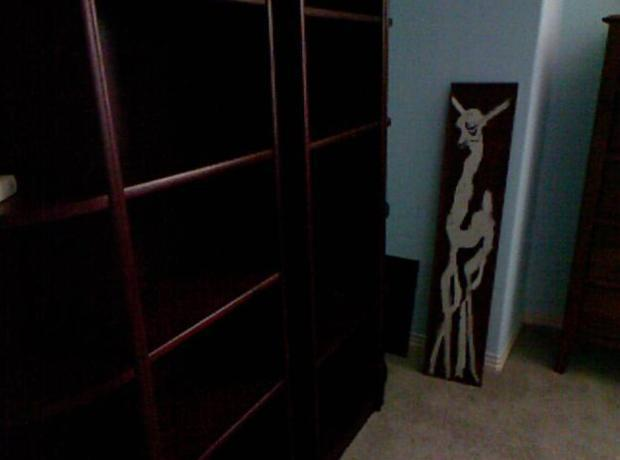Armario: (4, 5, 390, 454)
